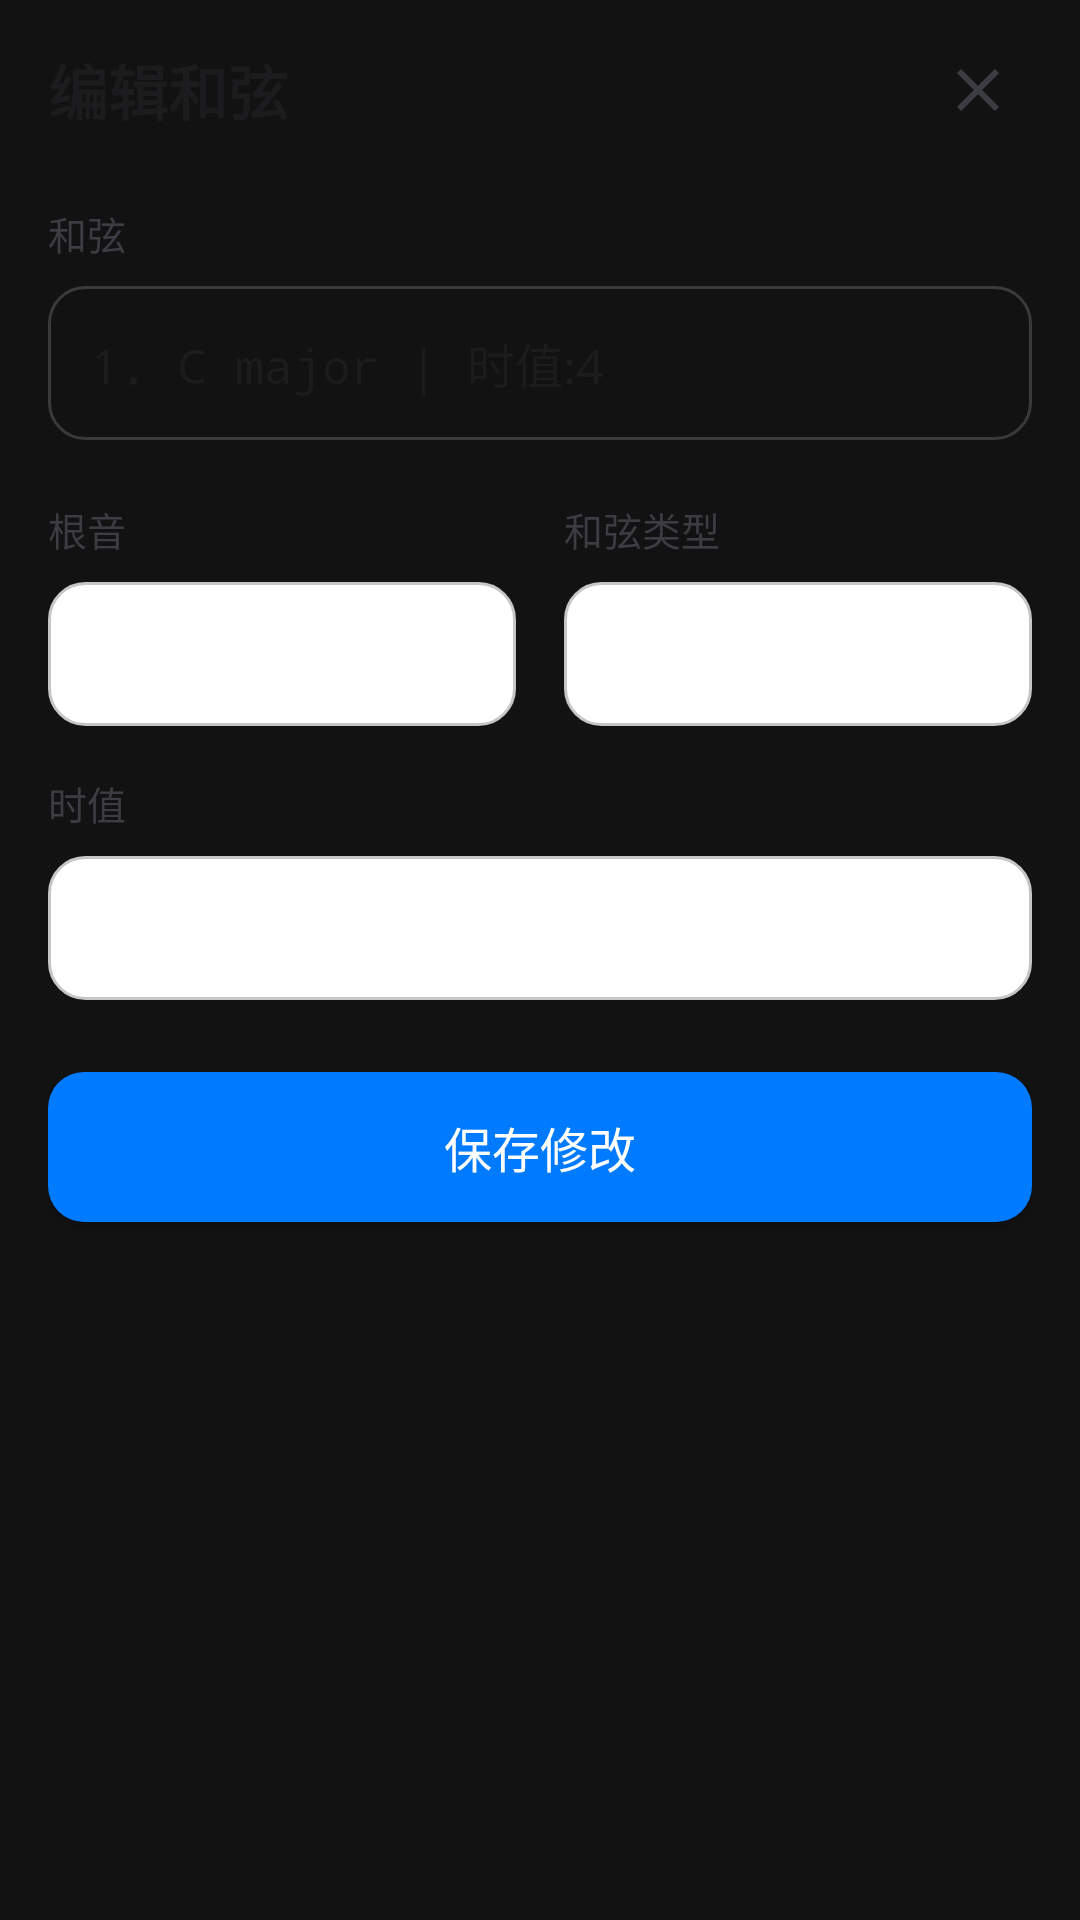

Where icons sit on this 1080 x 1920 app screen, as (x1, y1, x2, y2):
关闭: (957, 69, 999, 111)
